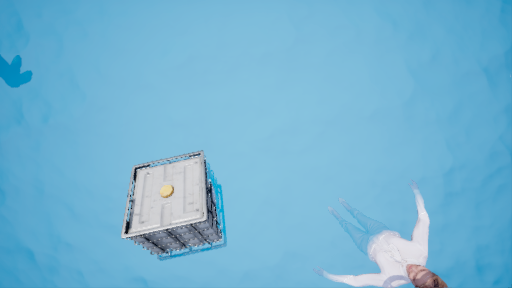person: (318, 191, 464, 288)
